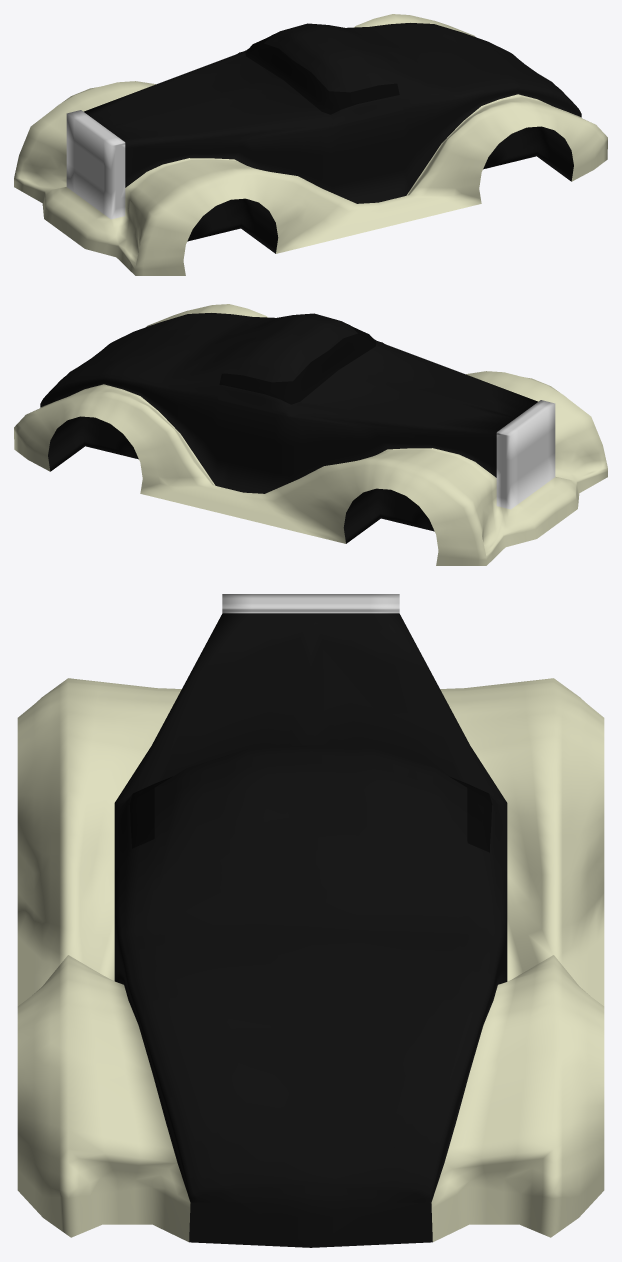
File: Car-WW2-Body.FBX
3 renders of one model, top to bottom at view 1: azimuth 30°, elevation 25°; view 2: azimuth 150°, elevation 25°; view 3: azimuth 270°, elevation 25°, orthographic. The views are drawn at different scales.
Visible parts, largest first — view 1: Car-WW2-Body, Car-WW2-Undercarriage; view 2: Car-WW2-Body, Car-WW2-Undercarriage; view 3: Car-WW2-Body.
Boxes of the visible parts, box(x1,y1,x2,y2) form: Car-WW2-Body: box(14, 14, 607, 275); Car-WW2-Undercarriage: box(187, 126, 573, 253); Car-WW2-Body: box(14, 304, 607, 565); Car-WW2-Undercarriage: box(48, 416, 434, 543); Car-WW2-Body: box(17, 594, 604, 1247).
Bounding box in the file's own units: 544 × 136 × 279.
